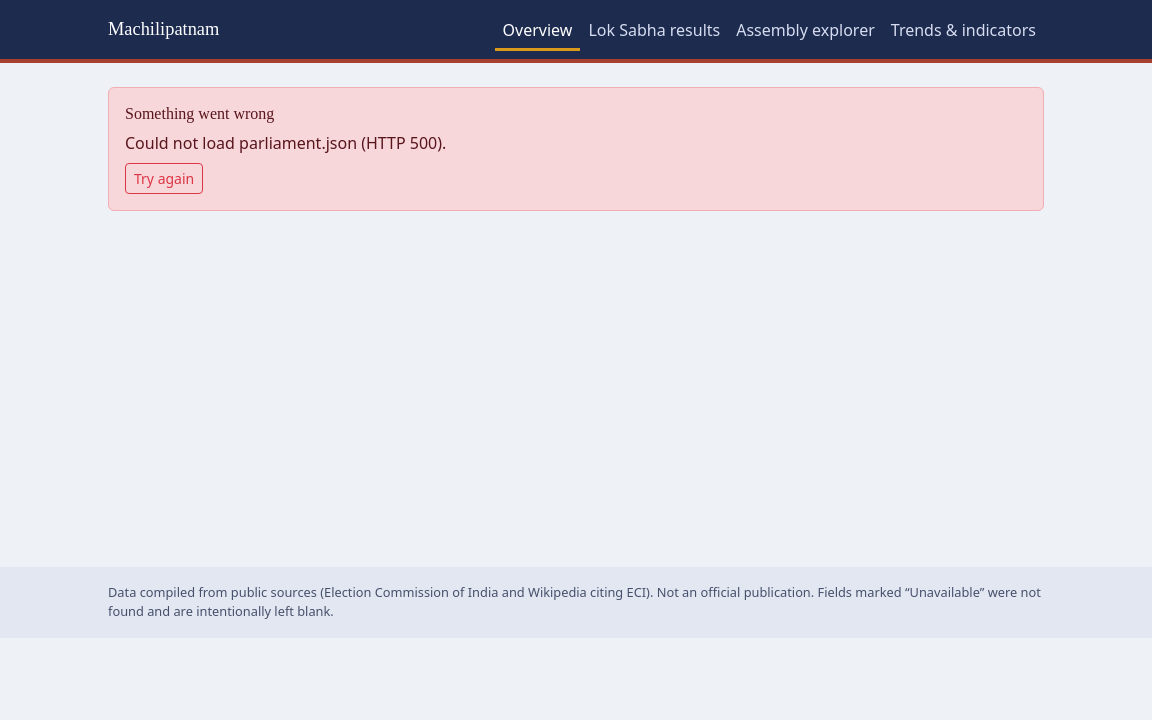
Test: Dashboard › shows an error state with retry when loading fails
Expected: the message shows "parliament.json", left=125, top=132, right=446, bottom=154
Click the button "Try again" at (164, 179), box left=125, top=163, right=203, bottom=194
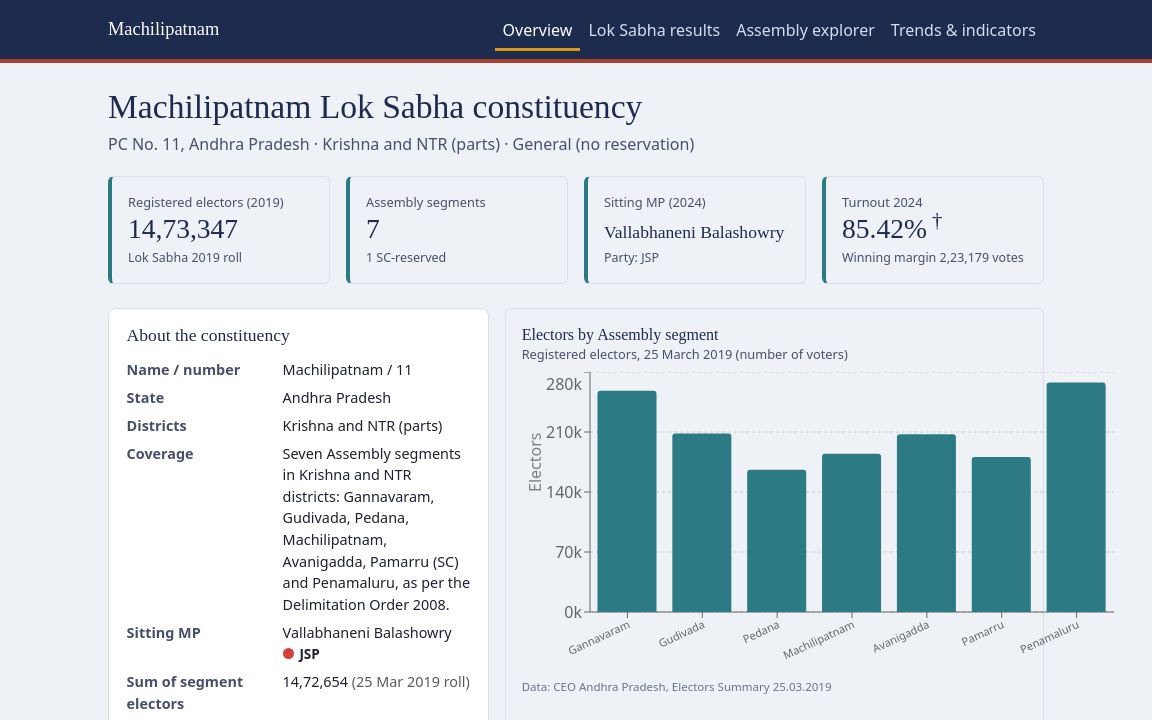
Expected: the heading "Machilipatnam Lok Sabha constituency" is shown, left=108, top=88, right=642, bottom=125
